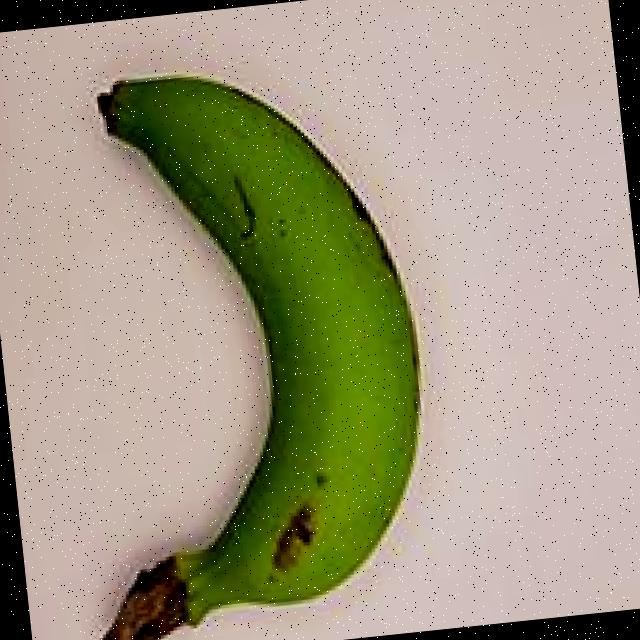Raw: (0, 19, 470, 640)
